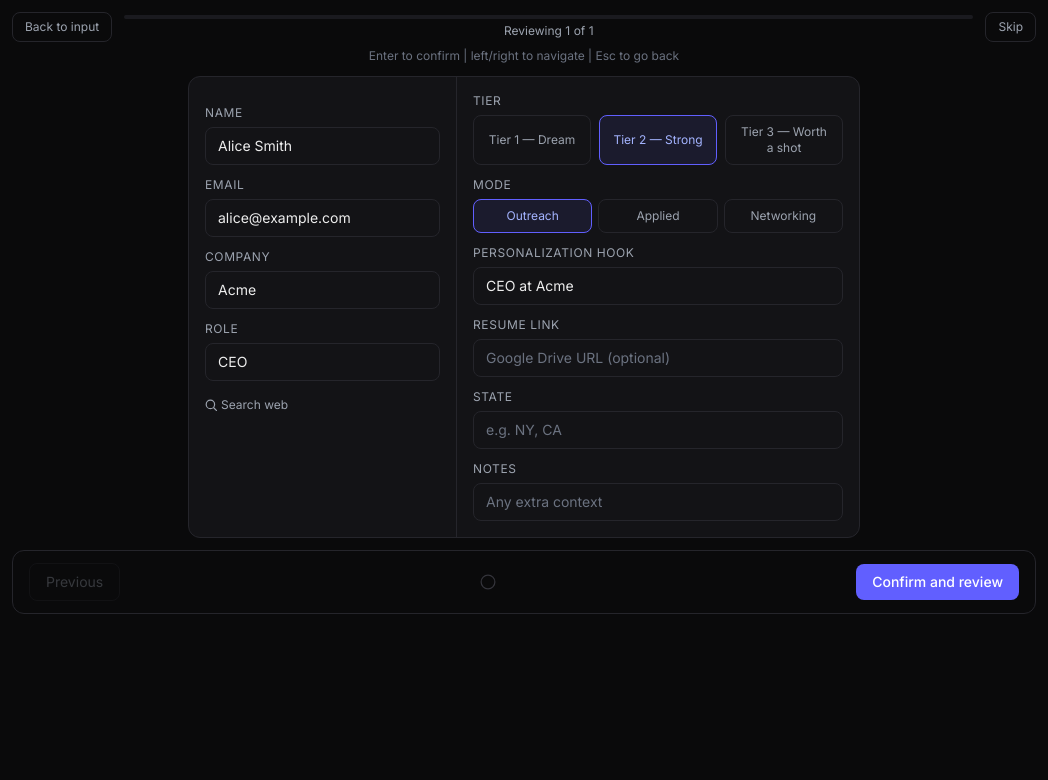
Test case: ReviewFlow — validation › transitions to summary phase when all cards are confirmed
This screenshot has width=1048, height=780.
Click the button "Confirm and review" at (938, 582), box [856,564,1019,600]
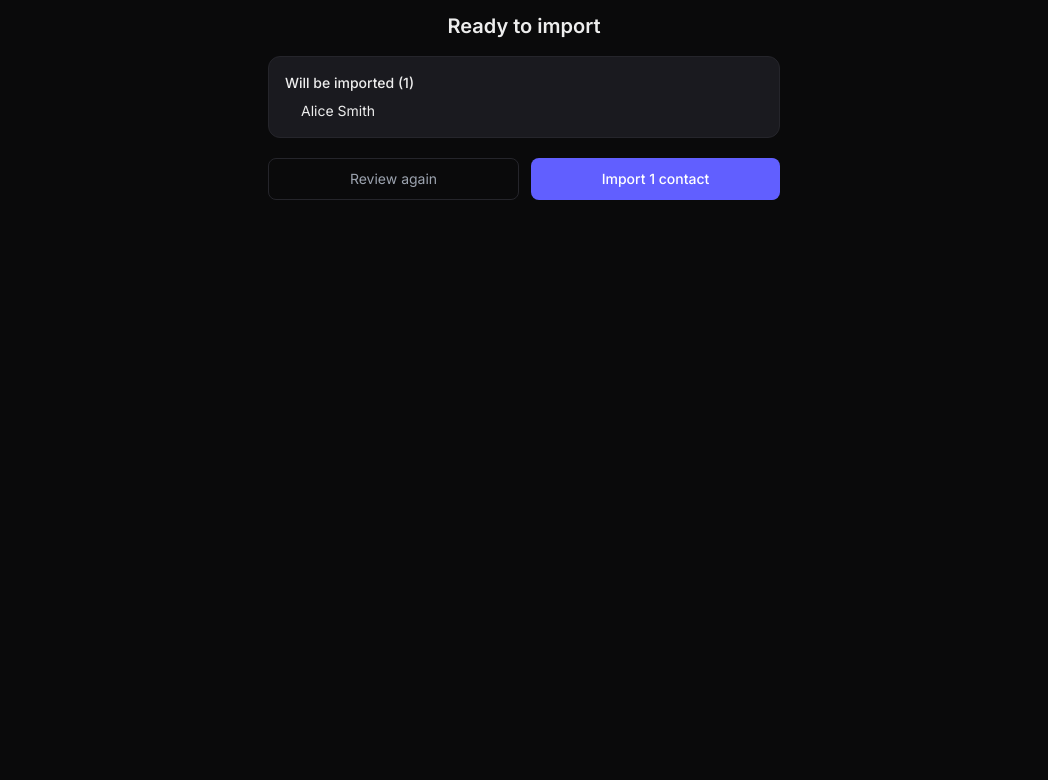
Expected: the heading "Ready to import" is shown, [447,14,600,38]
